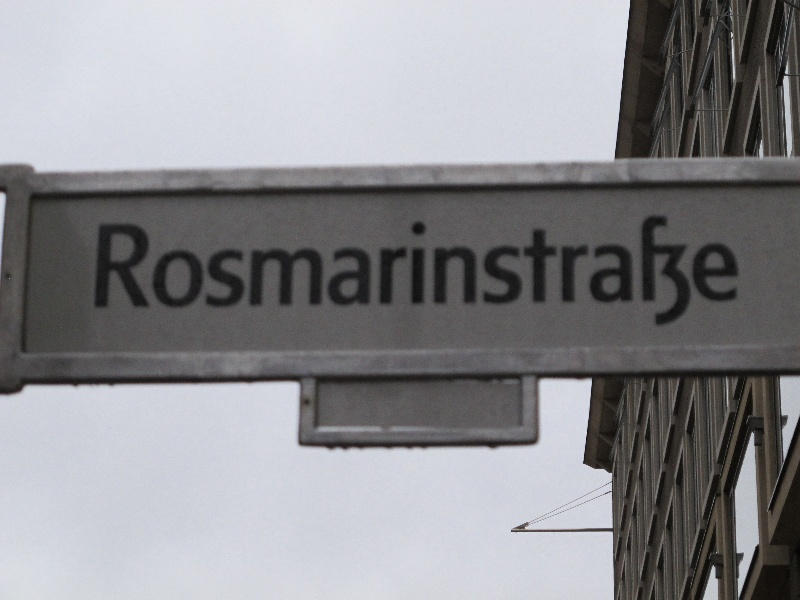text: (97, 214, 112, 331), (113, 214, 128, 331), (129, 214, 144, 331), (145, 214, 160, 331), (161, 214, 176, 331), (177, 214, 192, 331), (193, 214, 208, 331), (209, 214, 224, 331), (225, 214, 240, 331), (241, 214, 256, 331), (257, 214, 272, 331), (273, 214, 288, 331), (289, 214, 304, 331), (305, 214, 320, 331), (321, 214, 336, 331), (337, 214, 352, 331), (353, 214, 368, 331), (369, 214, 384, 331), (385, 214, 400, 331), (401, 214, 416, 331), (417, 214, 432, 331), (433, 214, 448, 331), (449, 214, 464, 331), (465, 214, 480, 331), (481, 214, 496, 331), (497, 214, 512, 331), (513, 214, 528, 331), (529, 214, 544, 331), (545, 214, 560, 331), (561, 214, 576, 331), (577, 214, 592, 331), (593, 214, 608, 331), (609, 214, 624, 331), (625, 214, 640, 331), (641, 214, 656, 331), (657, 214, 672, 331), (673, 214, 688, 331), (689, 214, 704, 331), (705, 214, 720, 331), (721, 214, 736, 331), (737, 214, 742, 331)
